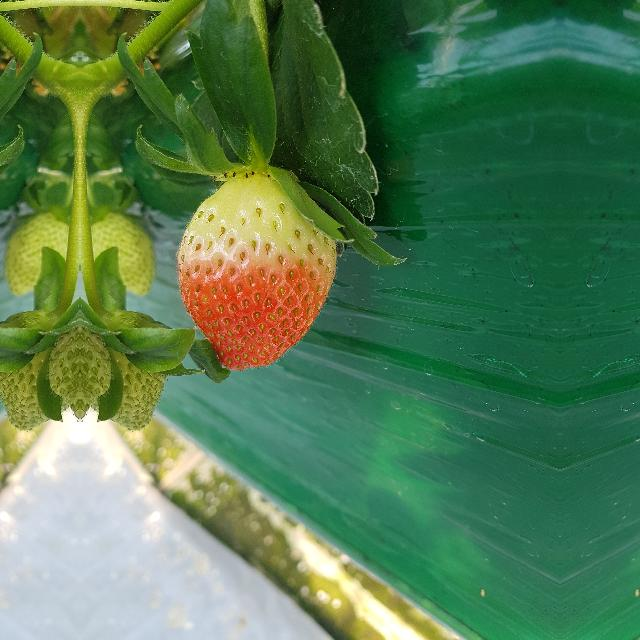Health_25: (86, 310, 166, 436), (0, 310, 74, 436)
Health_75: (175, 172, 338, 372)
